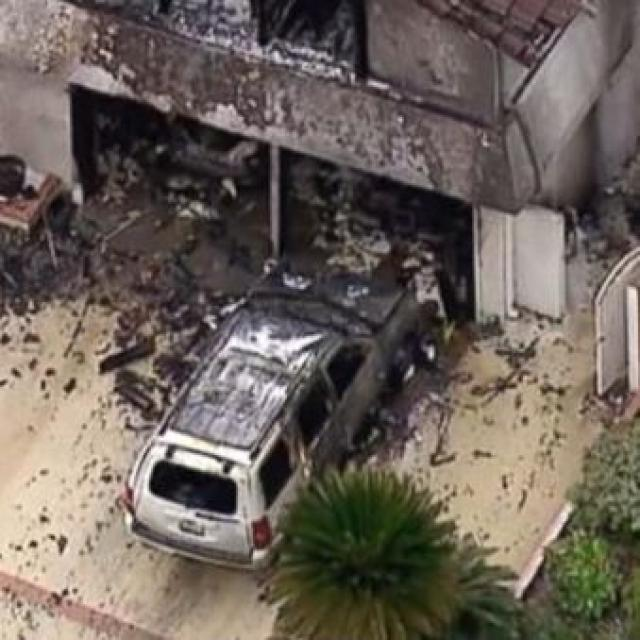traffic_incident: (117, 200, 415, 566)
